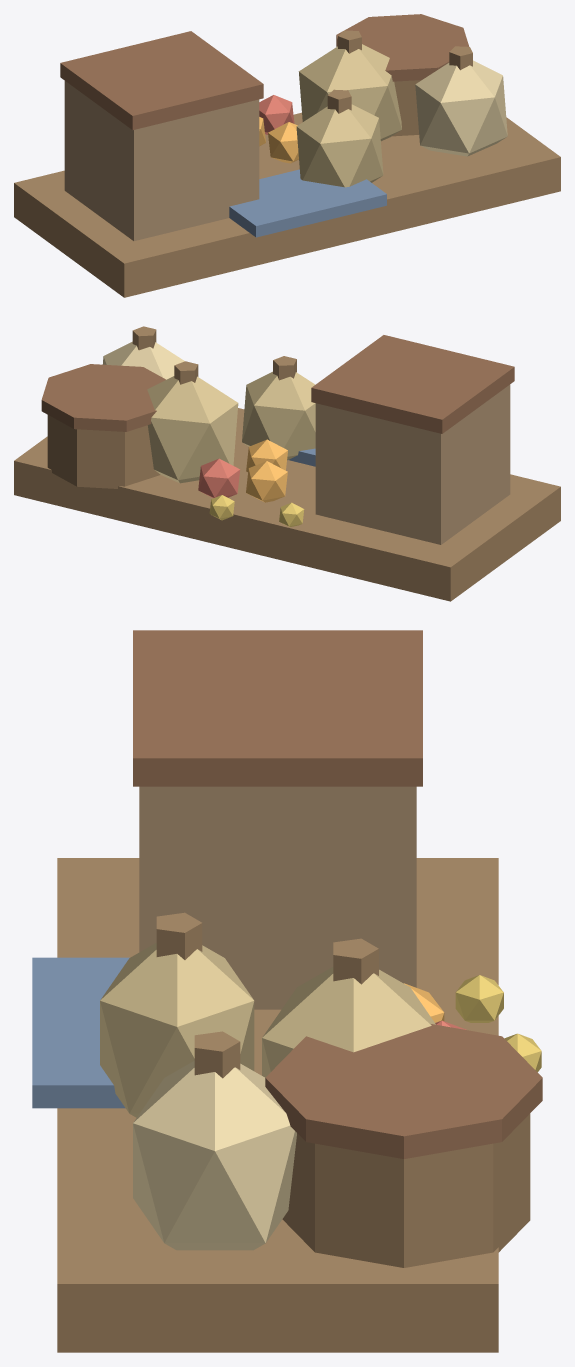
File: market_goods.glb
3 views of the same model, one above another, from view 1: azimuth 30°, elevation 25°; view 2: azimuth 150°, elevation 25°; view 3: azimuth 270°, elevation 25° (orthographic). The views are drawn at different scales.
Visible parts, largest first — view 1: counter, crate, crate_lid, sack_1, cloth, sack_2, sack_0, basket_rim, basket, fruit_2, fruit_1, tie_2 (+2 smaller); view 2: counter, crate, crate_lid, sack_0, basket_rim, basket, sack_2, sack_1, fruit_0, fruit_1, fruit_2, coin_1 (+4 smaller); view 3: counter, crate, crate_lid, basket_rim, basket, sack_1, sack_2, cloth, sack_0, coin_0, tie_2, tie_1 (+1 smaller).
Part boxes in pixels (x1=…): counter: x1=14, y1=112, x2=560, y2=297; crate: x1=64, y1=81, x2=259, y2=240; crate_lid: x1=60, y1=31, x2=263, y2=129; sack_1: x1=415, y1=60, x2=507, y2=156; cloth: x1=229, y1=169, x2=386, y2=237; sack_2: x1=296, y1=104, x2=383, y2=187; sack_0: x1=298, y1=44, x2=401, y2=141; basket_rim: x1=336, y1=14, x2=469, y2=81; basket: x1=392, y1=80, x2=421, y2=136; fruit_2: x1=268, y1=122, x2=298, y2=163; fruit_1: x1=259, y1=95, x2=294, y2=134; tie_2: x1=327, y1=89, x2=351, y2=113; counter: x1=14, y1=408, x2=560, y2=601; crate: x1=315, y1=384, x2=510, y2=544; crate_lid: x1=311, y1=335, x2=514, y2=433; sack_0: x1=147, y1=376, x2=238, y2=483; basket_rim: x1=41, y1=364, x2=165, y2=431; basket: x1=47, y1=415, x2=160, y2=488; sack_2: x1=242, y1=371, x2=315, y2=460; sack_1: x1=102, y1=341, x2=184, y2=379; fruit_0: x1=246, y1=461, x2=287, y2=502; fruit_1: x1=198, y1=458, x2=240, y2=498; fruit_2: x1=246, y1=439, x2=287, y2=471; coin_1: x1=209, y1=495, x2=234, y2=520; counter: x1=57, y1=858, x2=498, y2=1352; crate: x1=139, y1=786, x2=416, y2=1009; crate_lid: x1=133, y1=630, x2=422, y2=786; basket_rim: x1=265, y1=1024, x2=542, y2=1158; basket: x1=282, y1=1113, x2=530, y2=1267; sack_1: x1=133, y1=1061, x2=296, y2=1250; sack_2: x1=100, y1=943, x2=254, y2=1117; cloth: x1=32, y1=957, x2=129, y2=1108; sack_0: x1=262, y1=967, x2=435, y2=1077; coin_0: x1=455, y1=975, x2=503, y2=1022; tie_2: x1=156, y1=912, x2=202, y2=959; tie_1: x1=194, y1=1031, x2=240, y2=1078.
Size of the model in its own units: 1.6 by 0.565 by 0.81.
